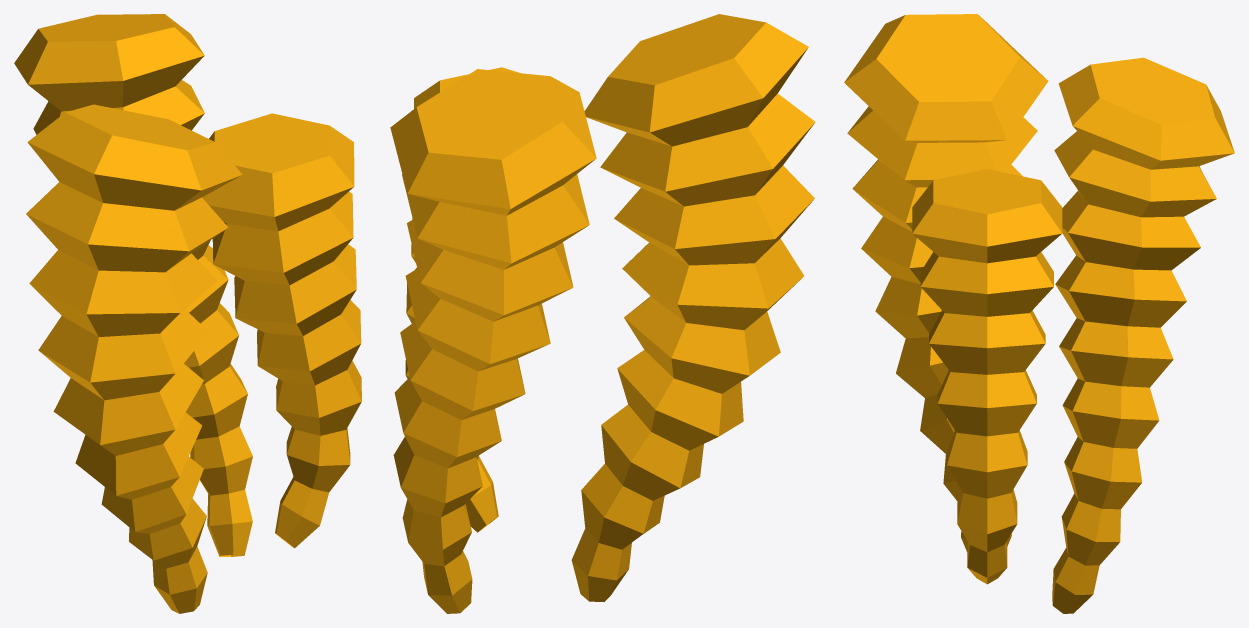
The model's file is Coral_19.fbx.
3 renders of one model, left to right at view 1: azimuth 30°, elevation 25°; view 2: azimuth 150°, elevation 25°; view 3: azimuth 270°, elevation 25°, orthographic. The views are drawn at different scales.
Visible parts, largest first — view 1: Coral_19; view 2: Coral_19; view 3: Coral_19.
Part boxes in pixels (x1,y1,x2,y2): Coral_19: (14,14,361,613); Coral_19: (390,14,815,613); Coral_19: (844,14,1234,613).
Bounding box in the file's own units: 40.78 × 61.76 × 43.44.
